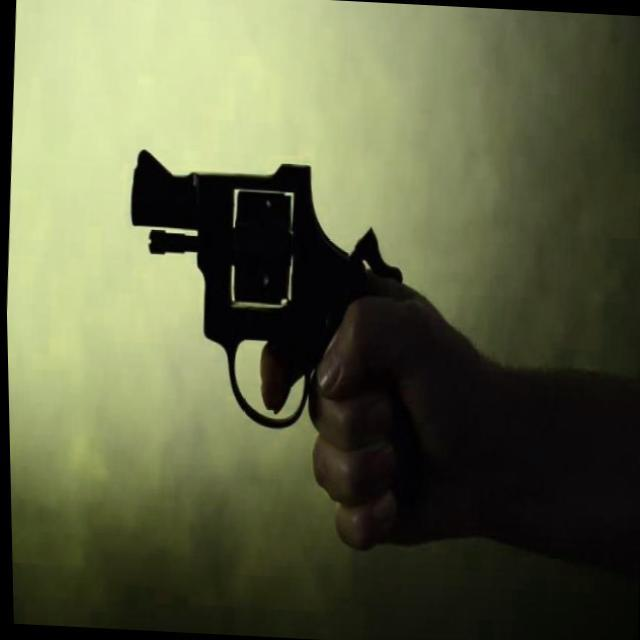weapon: (114, 144, 413, 442)
